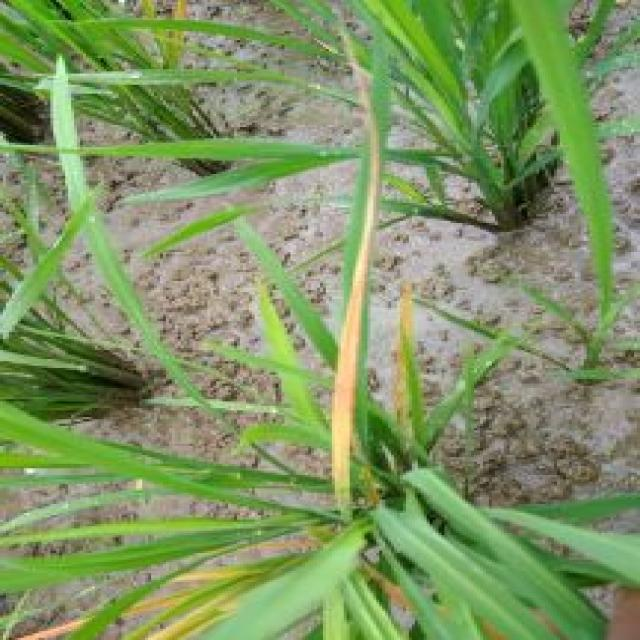Tungro: (312, 30, 381, 548), (4, 559, 278, 640), (396, 284, 419, 448)
